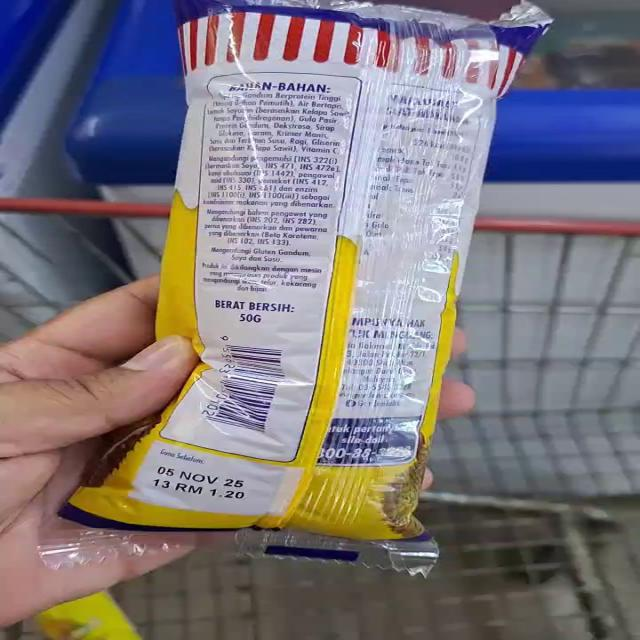Roti: (141, 0, 542, 318), (92, 272, 459, 582)
